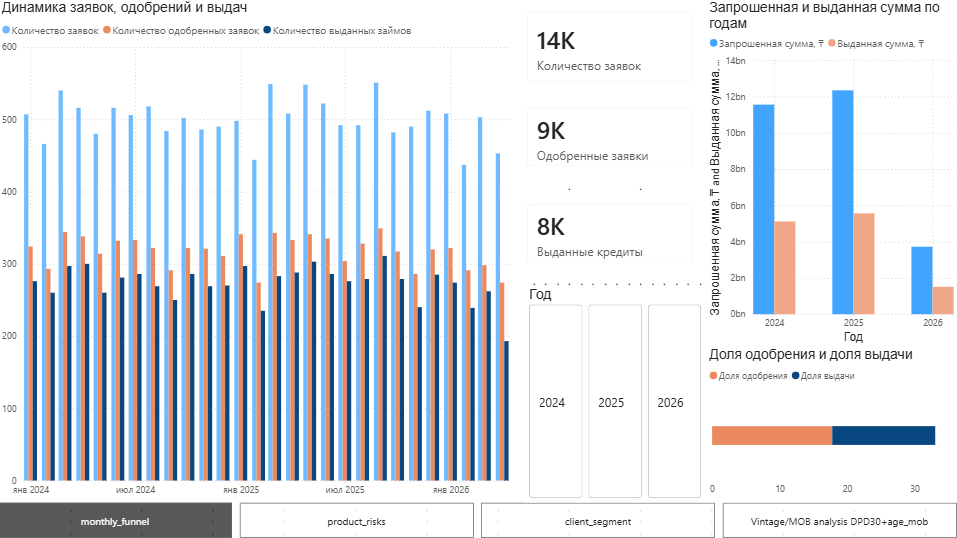

The dashboard page shown, as its layout file describes it:
{"tool":"powerbi","page":{"name":"monthly_funnel","canvas":[1280,720],"ordinal":0},"visuals":[{"type":"cardVisual","fields":{"Data":["Sum(public bi_monthly_funnel.total_applications)"]},"box":[688,0,256,128],"z":0},{"type":"cardVisual","fields":{"Data":["Sum(public bi_monthly_funnel.approved_applications)"]},"box":[688,128,256,112],"z":1000},{"type":"clusteredColumnChart","title":"Запрошенная и выданная сумма по годам","fields":{"Y":["Sum(public bi_monthly_funnel.requested_amount)","Sum(public bi_monthly_funnel.issued_amount)"],"Category":["Calendar.Year"]},"box":[944,0,336,464],"z":2000},{"type":"lineClusteredColumnComboChart","title":"Динамика заявок, одобрений и выдач","fields":{"Category":["Calendar.MonthYear"],"Y":["Sum(public bi_monthly_funnel.total_applications)","Sum(public bi_monthly_funnel.approved_applications)","Sum(public bi_monthly_funnel.issued_loans)"]},"box":[0,0,704,672],"z":3000},{"type":"cardVisual","fields":{"Data":["Sum(public bi_monthly_funnel.issued_loans)"]},"box":[688,256,256,112],"z":4000},{"type":"pageNavigator","box":[0,672,1280,48],"z":5000},{"type":"barChart","title":"Доля одобрения и доля выдачи","fields":{"Y":["Sum(public bi_monthly_funnel.approval_rate)","Sum(public bi_monthly_funnel.issue_rate)"]},"box":[944,464,336,208],"z":6000},{"type":"advancedSlicerVisual","title":"Год","fields":{"Values":["Calendar.Year"]},"box":[704,384,240,288],"z":7000}]}

Visuals, with their boxes in screenshot pixels (x1, y1, x2, y2), scaled from the page's 1280x720 canvas onto the 957x538 screenshot:
cardVisual - Sum(public bi_monthly_funnel.total_applications): (left=514, top=0, right=706, bottom=96)
cardVisual - Sum(public bi_monthly_funnel.approved_applications): (left=514, top=96, right=706, bottom=179)
"Запрошенная и выданная сумма по годам" clusteredColumnChart: (left=706, top=0, right=956, bottom=347)
"Динамика заявок, одобрений и выдач" lineClusteredColumnComboChart: (left=0, top=0, right=526, bottom=502)
cardVisual - Sum(public bi_monthly_funnel.issued_loans): (left=514, top=191, right=706, bottom=275)
pageNavigator: (left=0, top=502, right=956, bottom=537)
"Доля одобрения и доля выдачи" barChart: (left=706, top=347, right=956, bottom=502)
"Год" advancedSlicerVisual: (left=526, top=287, right=706, bottom=502)
